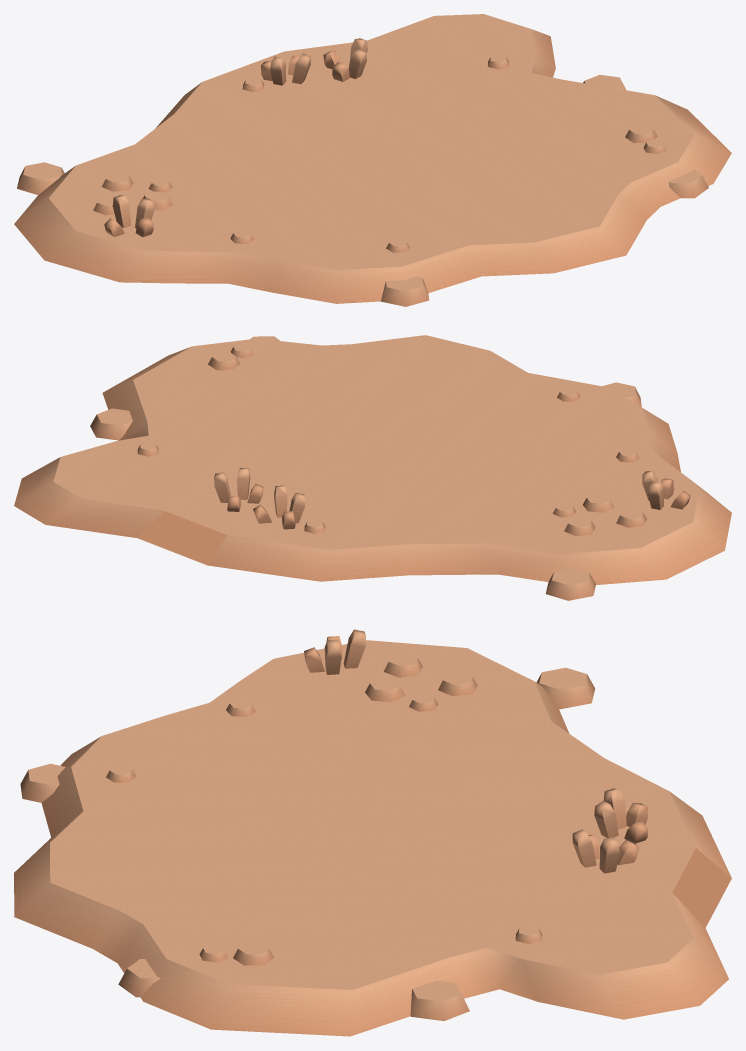
File: patch-sand-foliage.012.glb
The picture shows the model from 3 angles, top to bottom: view 1: azimuth 30°, elevation 25°; view 2: azimuth 150°, elevation 25°; view 3: azimuth 270°, elevation 25°; orthographic projection. The views are drawn at different scales.
Visible parts, largest first — view 1: patch-sand-foliage.012; view 2: patch-sand-foliage.012; view 3: patch-sand-foliage.012.
Part boxes in pixels (<box>): patch-sand-foliage.012: <box>14,14,731,306</box>; patch-sand-foliage.012: <box>14,335,731,600</box>; patch-sand-foliage.012: <box>14,629,731,1036</box>.
Bounding box in the file's own units: 1.14 × 0.0832 × 0.8908.
Materials: 1 (1 with a texture image).
